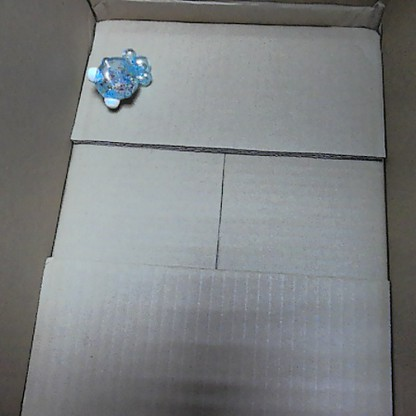bluefish: (85, 45, 151, 111)
